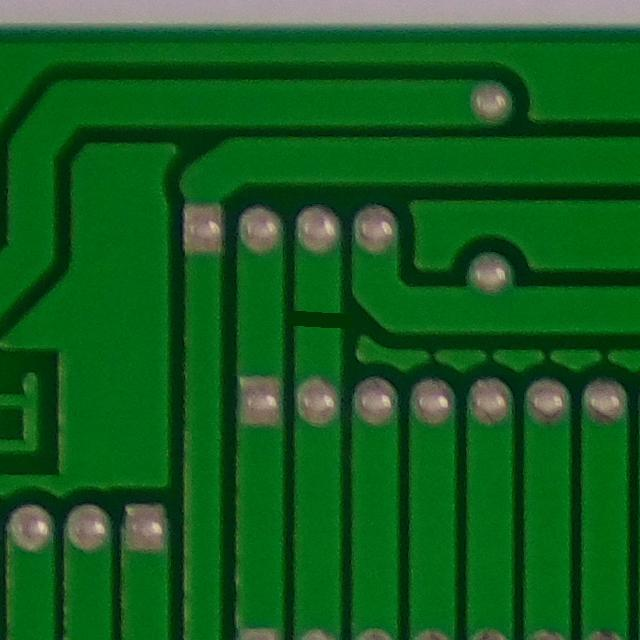open_circuit: (284, 293, 357, 347)
